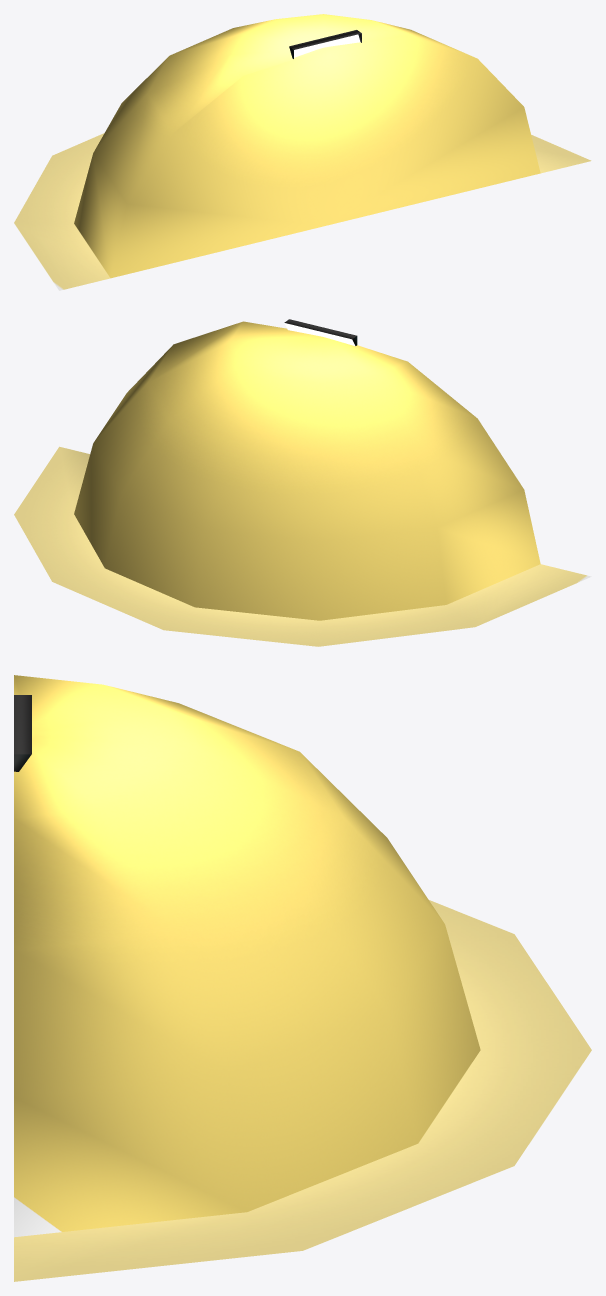
The model's file is LIT0110001.fbx.
3 views of the same model, one above another, from view 1: azimuth 30°, elevation 25°; view 2: azimuth 150°, elevation 25°; view 3: azimuth 270°, elevation 25° (orthographic). The views are drawn at different scales.
Visible parts, largest first — view 1: smLIT0110001; view 2: smLIT0110001; view 3: smLIT0110001.
Boxes of the visible parts, x1,y1,x2,y2 form: smLIT0110001: (14, 14, 591, 290); smLIT0110001: (14, 319, 591, 646); smLIT0110001: (14, 675, 591, 1281).
Size of the model in its own units: 357 by 118 by 188.
1 material, 1 textured.
